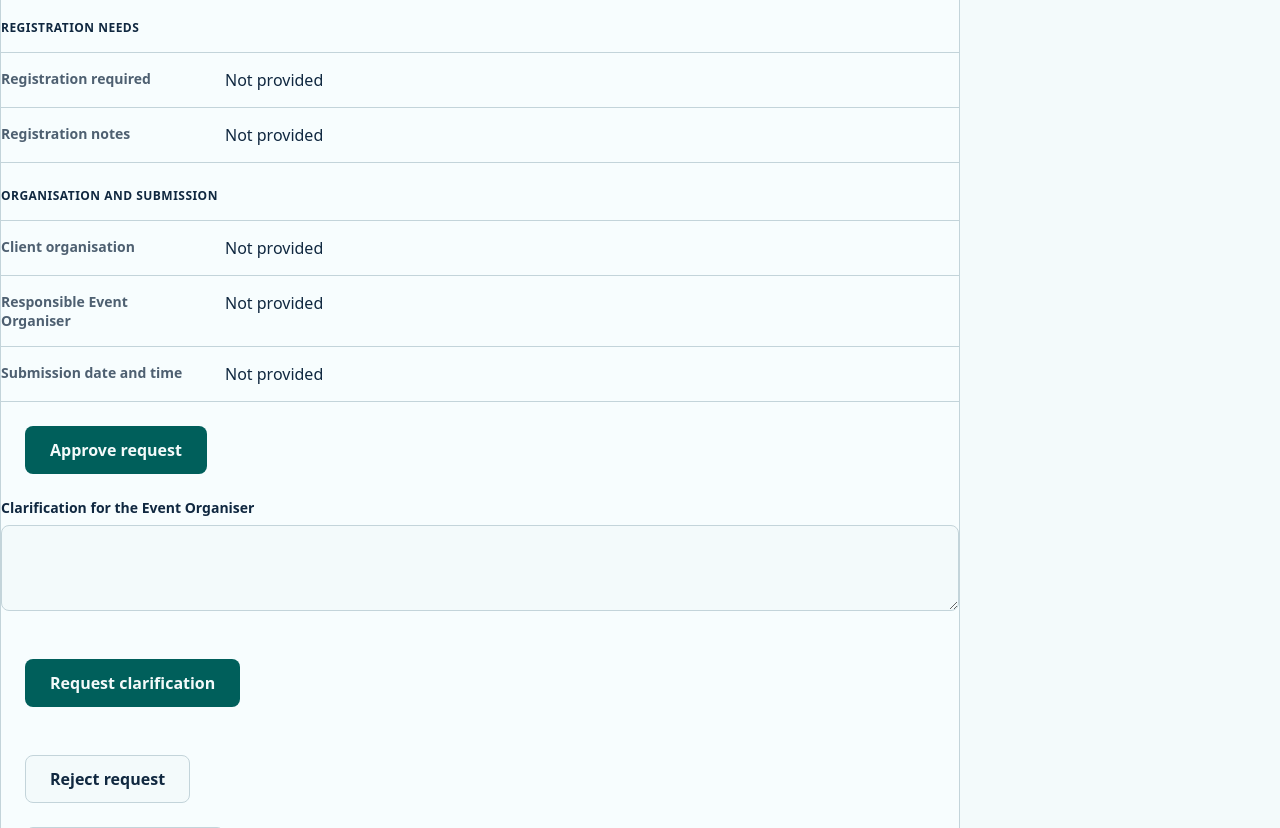
Test case: [QA-SPL-65-074] sends the message to the action endpoint and shows the returned status
(page scrolled)
Type "Please confirm the attendance." into the text box labelled "Clarification for the Event Organiser".
click(480, 568); type("Please confirm the attendance.")  # box x1=1 y1=525 x2=959 y2=611
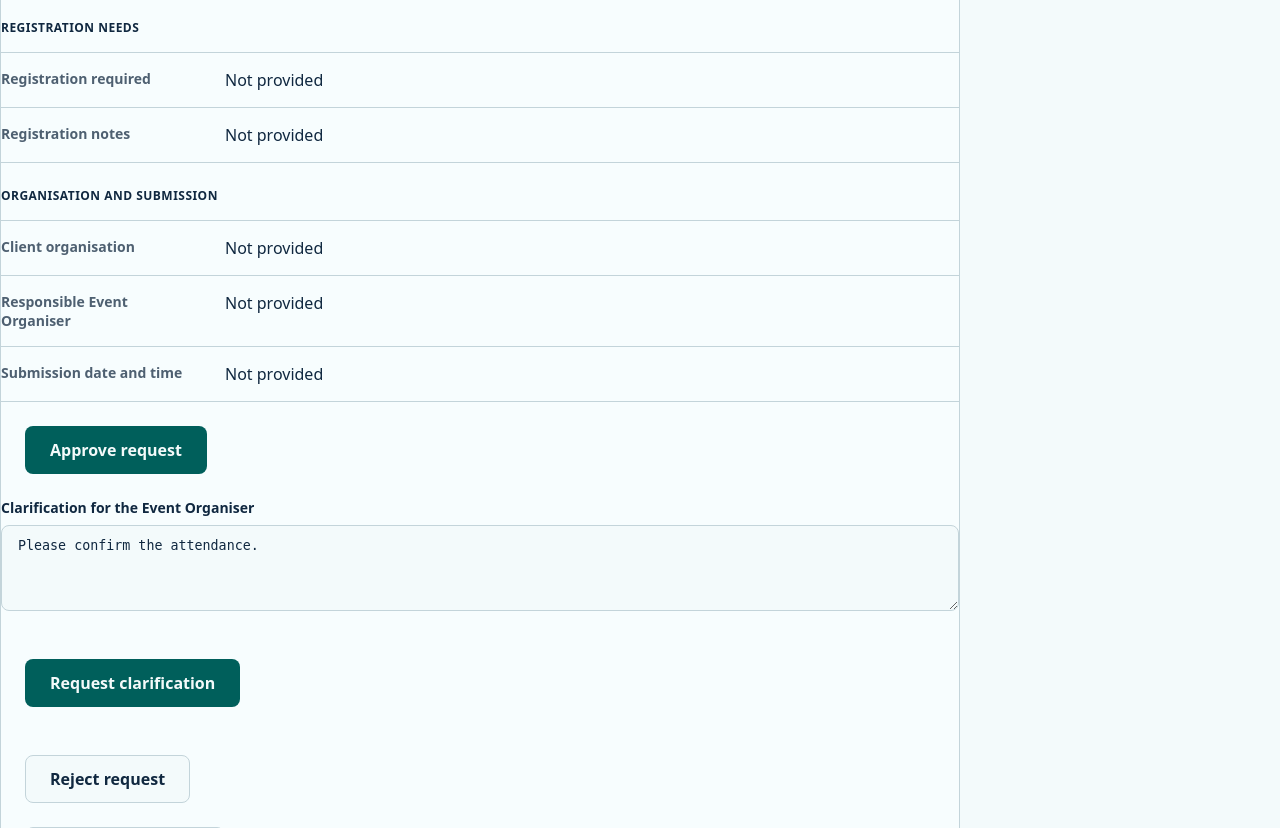
Click the button "Request clarification".
click(133, 683)  # box x1=25 y1=659 x2=240 y2=707
(page scrolled)
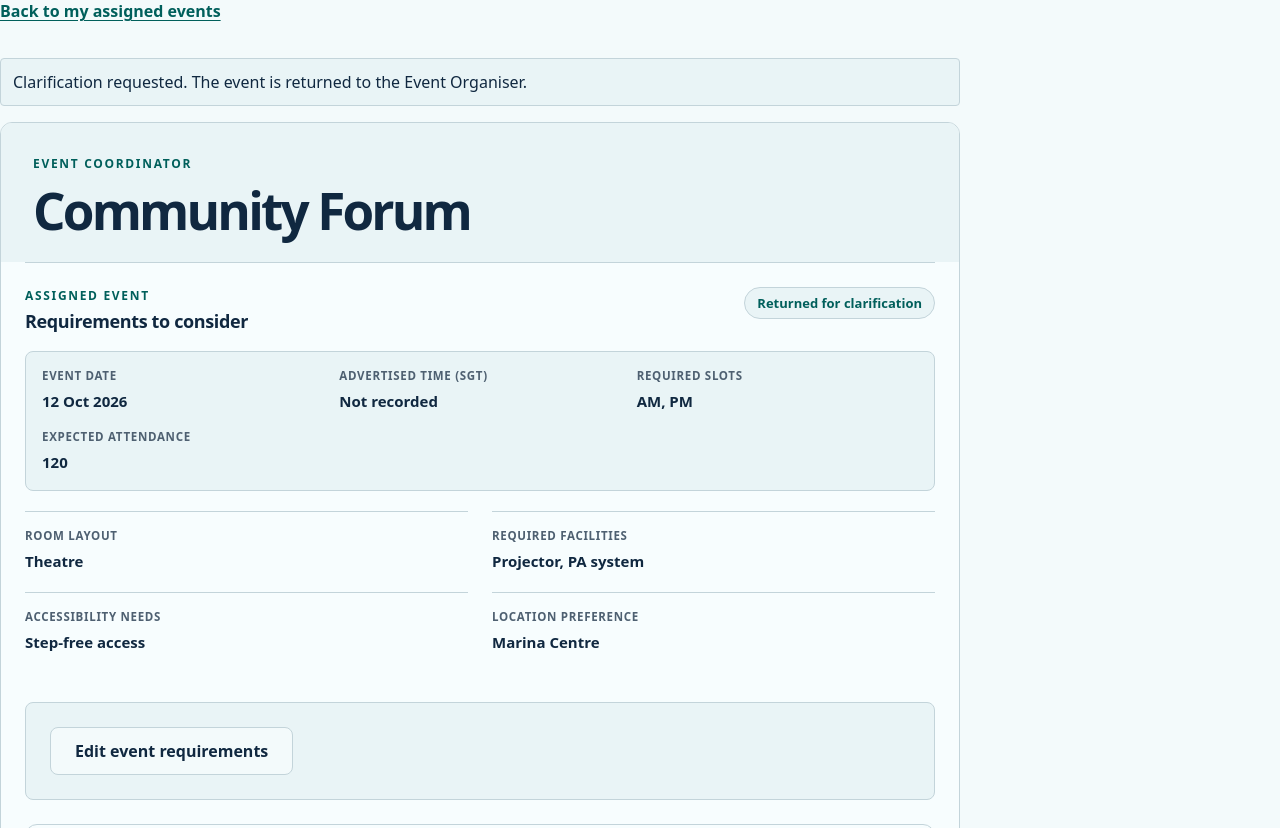
Expected: the text "Clarification requested. The event is returned to the Event Organiser." is shown, x1=0 y1=58 x2=960 y2=106
Expected: the text "Returned for clarification" is shown, x1=744 y1=287 x2=935 y2=319
